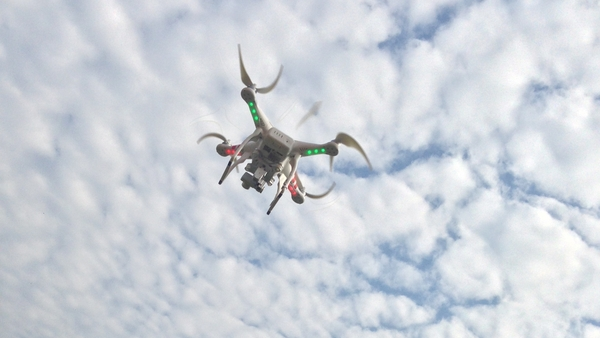drone: (194, 42, 375, 217)
